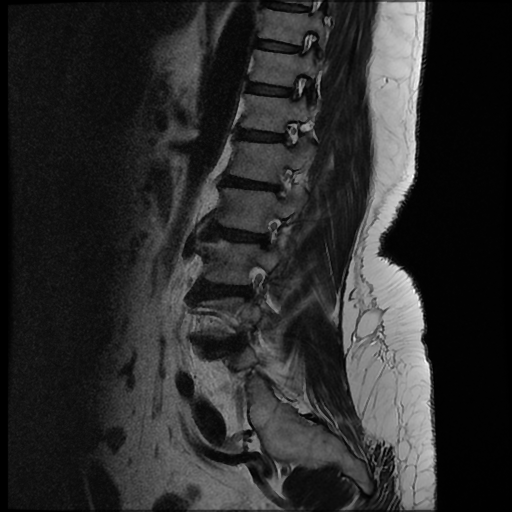LFS0: (256, 208, 290, 259), (274, 110, 309, 158)
